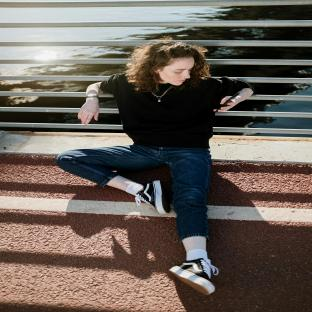Human: (56, 37, 254, 294)
